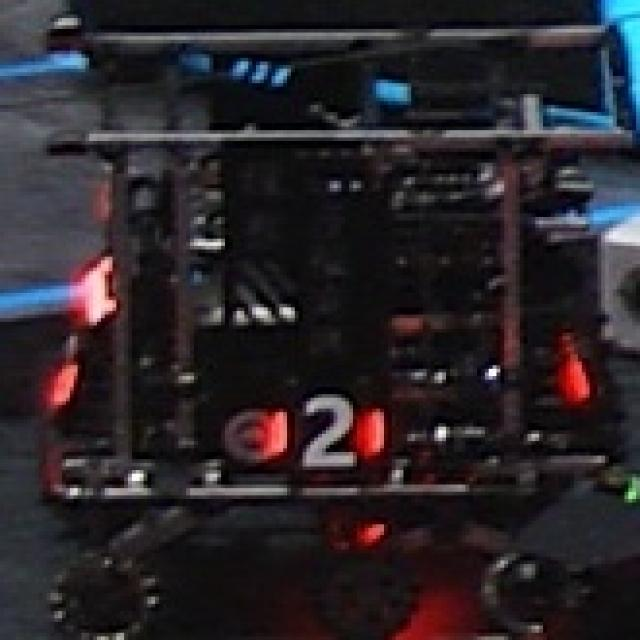R2: (272, 391, 384, 466)
